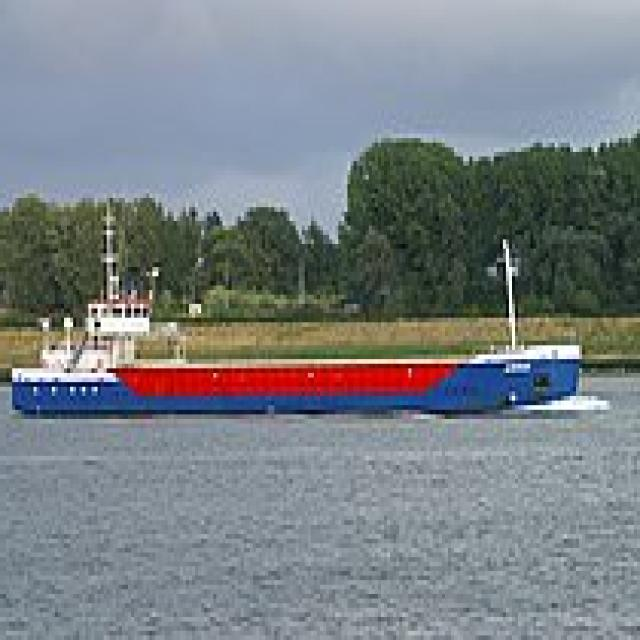Cargo: (12, 184, 591, 410)
